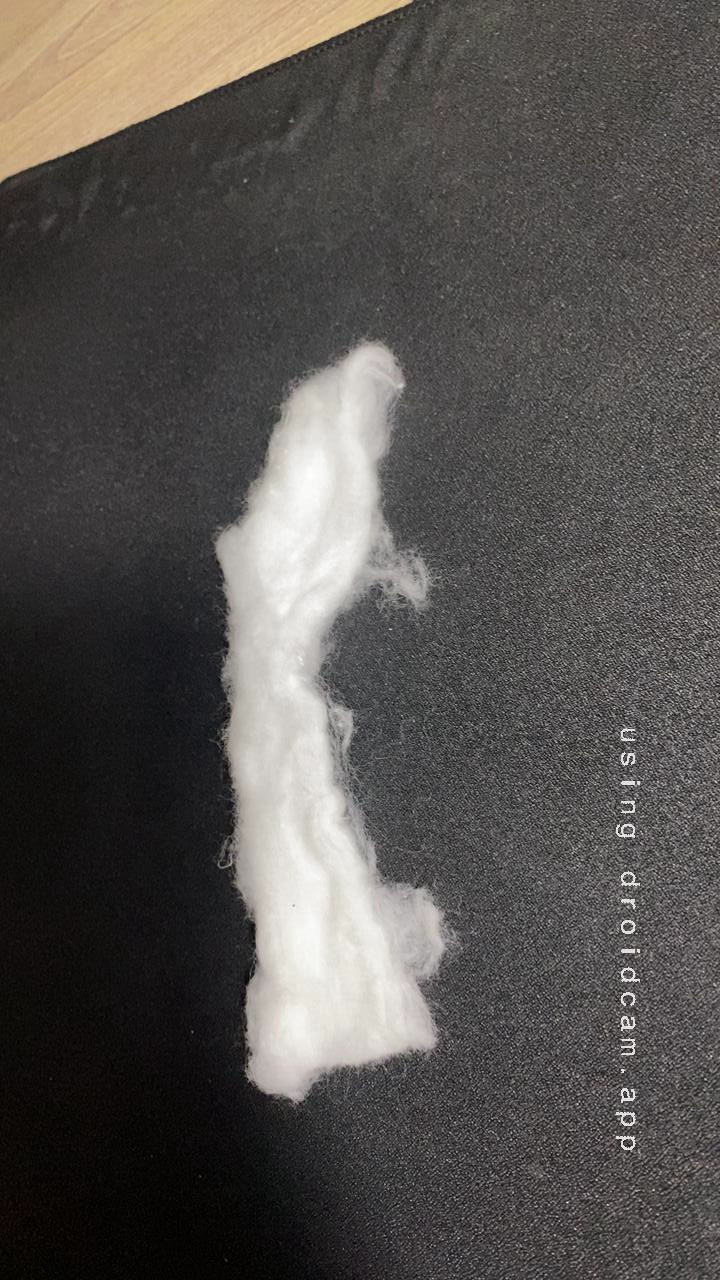cotton: (170, 322, 471, 1000)
